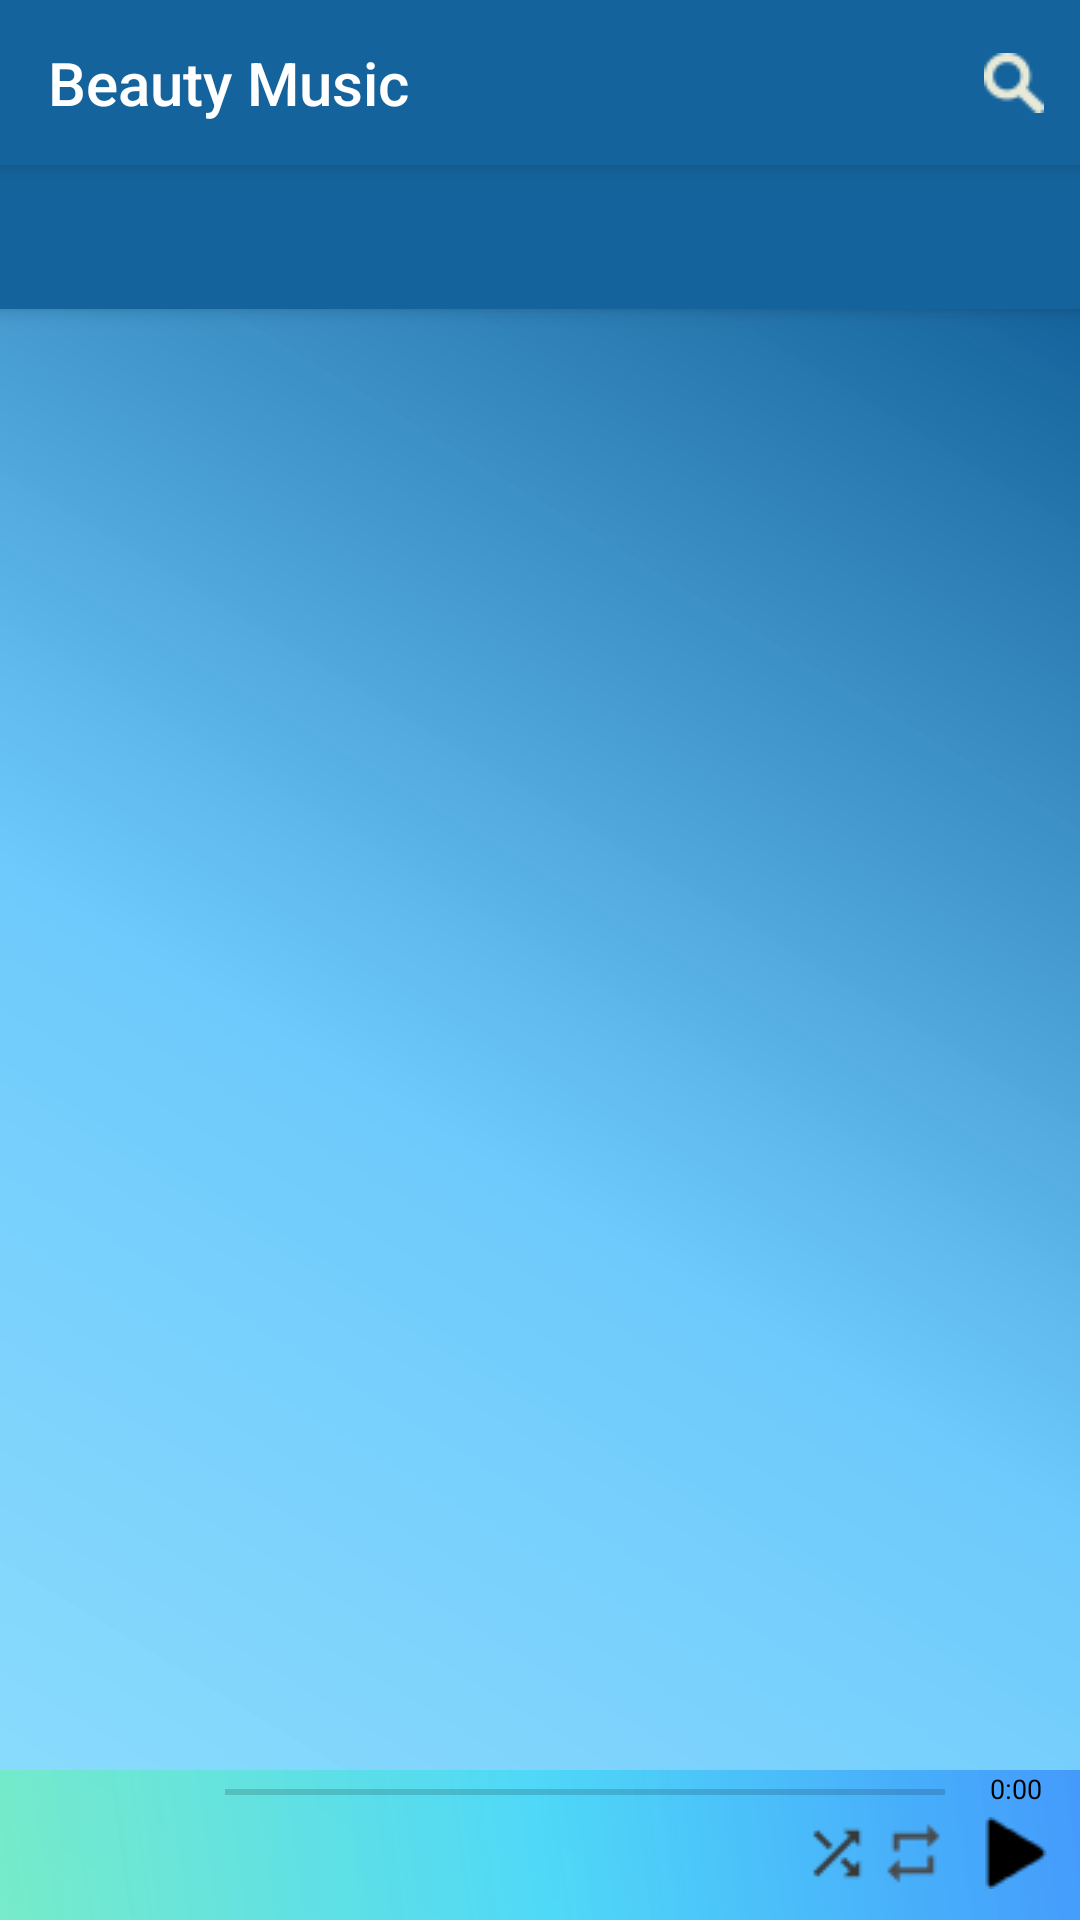

Where icons sit on this 1080 × 1920 app screen, as region(x1, y1, x2, y2):
search: region(984, 53, 1044, 113)
